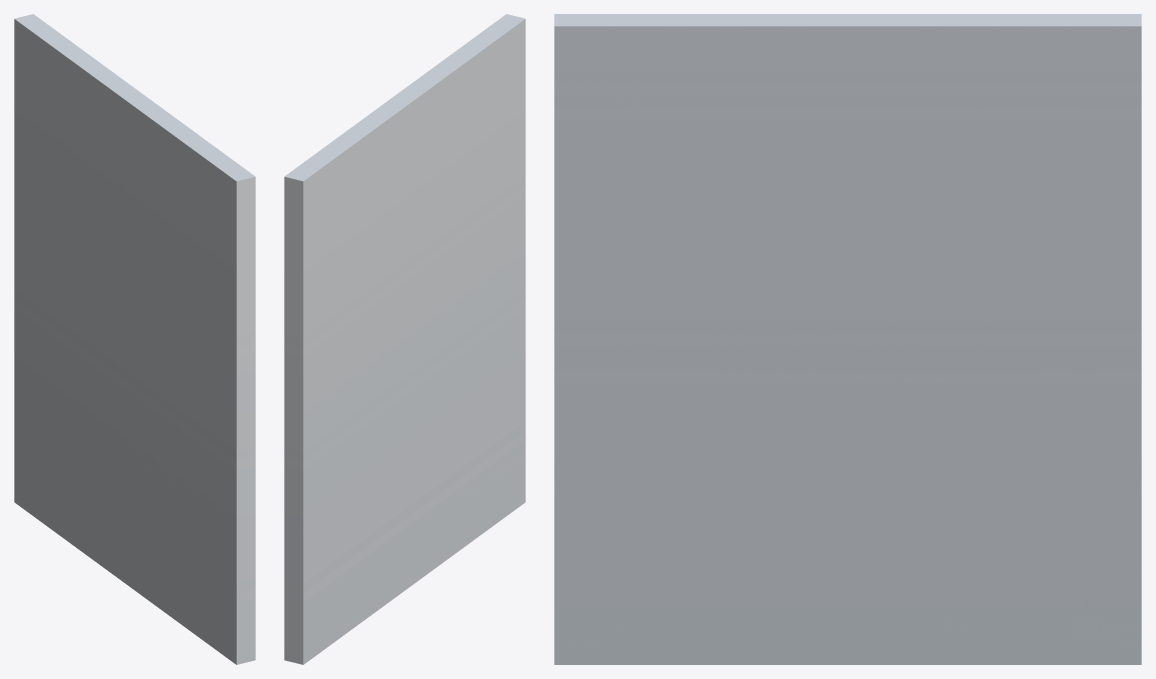
The model's file is scene-wall.glb.
3 views of the same model, side by side, from view 1: azimuth 30°, elevation 25°; view 2: azimuth 150°, elevation 25°; view 3: azimuth 270°, elevation 25° (orthographic). The views are drawn at different scales.
Bounding box in the file's own units: 0.1 × 2.4 × 2.
1 material, 1 textured.
